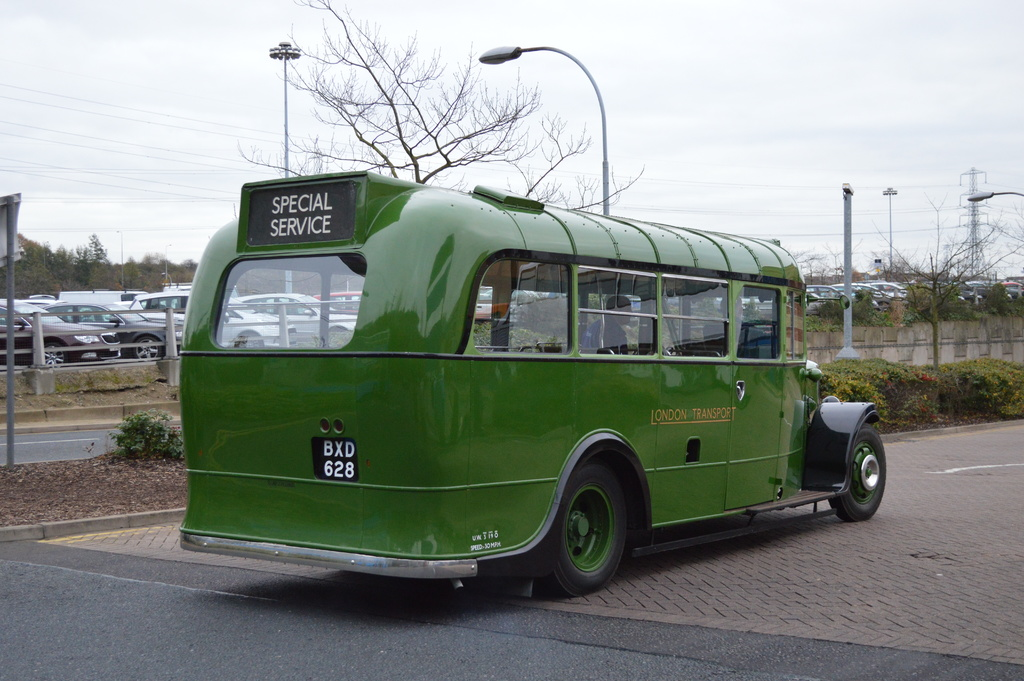Bus: (174, 169, 892, 597)
